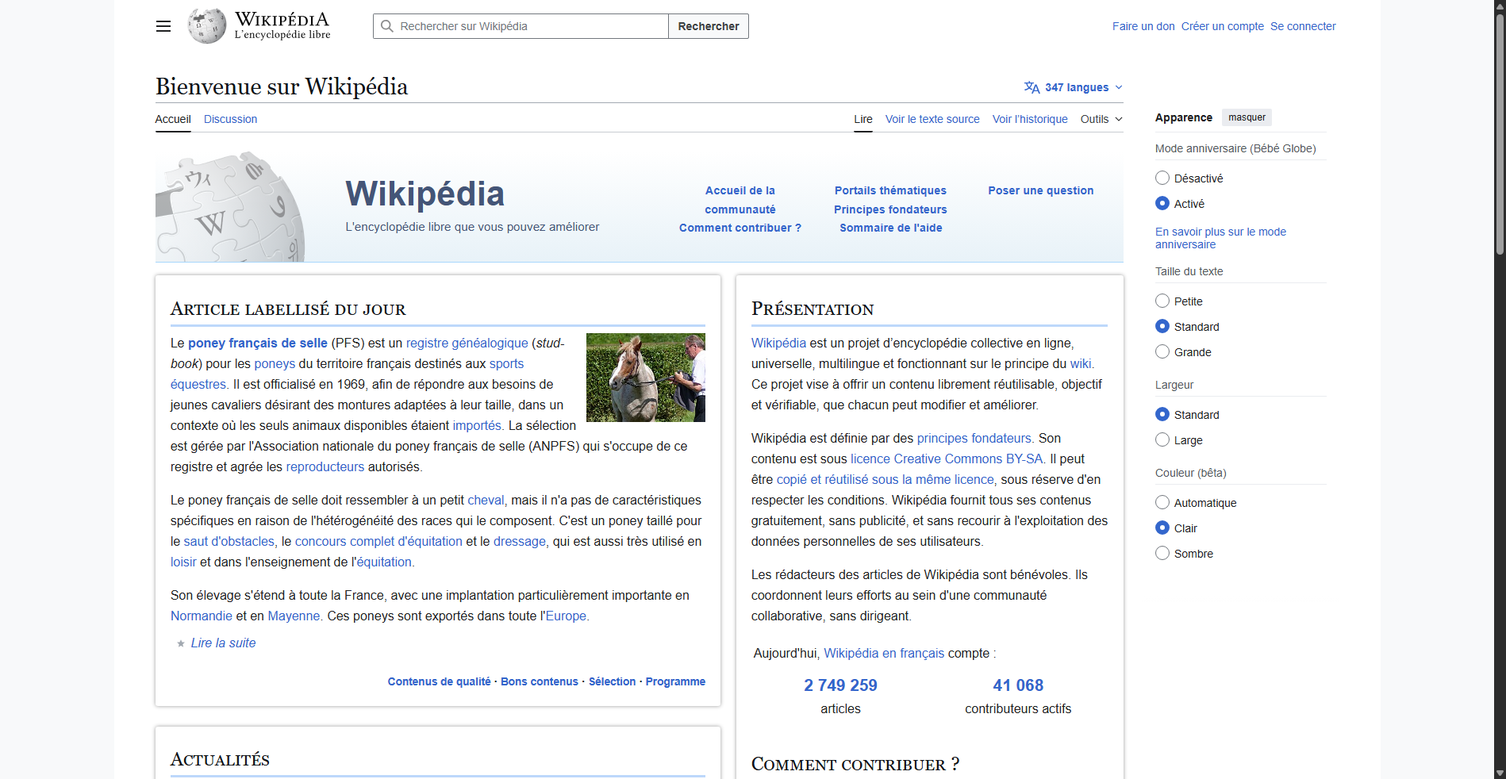general_button: (1015, 74, 1133, 100), (162, 71, 301, 89), (952, 162, 1090, 179), (1080, 103, 1123, 131), (1222, 109, 1271, 126), (150, 13, 176, 39)
general_checkbox: (1015, 74, 1133, 100), (1080, 103, 1123, 130)
general_image: (586, 333, 705, 422), (187, 6, 227, 46), (235, 12, 329, 26), (234, 30, 330, 40)
general_label: (1155, 169, 1326, 190), (1155, 292, 1326, 313), (1155, 343, 1326, 364), (1155, 431, 1326, 452), (1155, 519, 1326, 540), (1155, 195, 1326, 215), (1155, 318, 1326, 338), (1155, 406, 1326, 426), (1155, 494, 1326, 514), (1155, 545, 1326, 565)
general_link: (170, 357, 524, 391), (1155, 220, 1326, 255), (187, 6, 330, 46), (162, 145, 309, 168), (162, 223, 309, 246), (162, 293, 309, 316), (952, 287, 1099, 310), (952, 357, 1099, 380), (952, 435, 1099, 458), (162, 99, 309, 121), (162, 122, 309, 144), (162, 169, 309, 191), (162, 247, 309, 269), (162, 270, 309, 292), (162, 317, 309, 339), (952, 218, 1099, 240), (952, 241, 1099, 263), (952, 264, 1099, 286), (952, 311, 1099, 333), (952, 334, 1099, 356), (952, 412, 1099, 434), (952, 459, 1099, 481), (968, 583, 1099, 606), (968, 653, 1099, 676), (968, 723, 1099, 746), (968, 514, 1099, 536), (968, 537, 1099, 559), (968, 560, 1099, 582), (968, 607, 1099, 629), (968, 630, 1099, 652), (968, 677, 1099, 699), (968, 700, 1099, 722), (968, 747, 1099, 769), (777, 473, 994, 486), (885, 103, 980, 132), (851, 452, 1043, 466), (705, 184, 776, 216), (992, 103, 1068, 132), (295, 535, 462, 548), (188, 337, 328, 350), (586, 370, 705, 384), (679, 221, 802, 234), (406, 337, 528, 350), (824, 647, 944, 660), (204, 103, 257, 132), (917, 432, 1031, 445), (834, 184, 947, 197), (834, 203, 947, 216), (988, 184, 1094, 197), (839, 221, 943, 234), (804, 676, 877, 694), (388, 676, 491, 688), (968, 770, 1099, 779), (184, 535, 274, 548), (286, 460, 364, 474), (1181, 20, 1264, 33), (155, 103, 191, 132), (500, 676, 578, 688), (993, 676, 1044, 694), (191, 636, 256, 650), (170, 609, 232, 623), (1270, 20, 1336, 33), (1113, 20, 1175, 33), (357, 555, 412, 569), (268, 609, 320, 623), (751, 337, 806, 350), (646, 676, 705, 688), (493, 535, 546, 548), (453, 419, 501, 433), (588, 676, 636, 688), (254, 357, 295, 371), (545, 609, 586, 623), (854, 103, 873, 132), (467, 494, 504, 507), (170, 555, 196, 569), (1070, 357, 1091, 371)
general_radio: (1155, 170, 1171, 186), (1155, 195, 1171, 211), (1155, 293, 1171, 309), (1155, 318, 1171, 334), (1155, 344, 1171, 360), (1155, 406, 1171, 422), (1155, 432, 1171, 448), (1155, 520, 1171, 536), (1155, 545, 1171, 561), (1155, 495, 1171, 510)
icon_menu: (150, 13, 176, 39), (155, 18, 171, 34)
icon_search: (373, 13, 749, 39), (373, 13, 669, 39), (668, 13, 749, 39)
